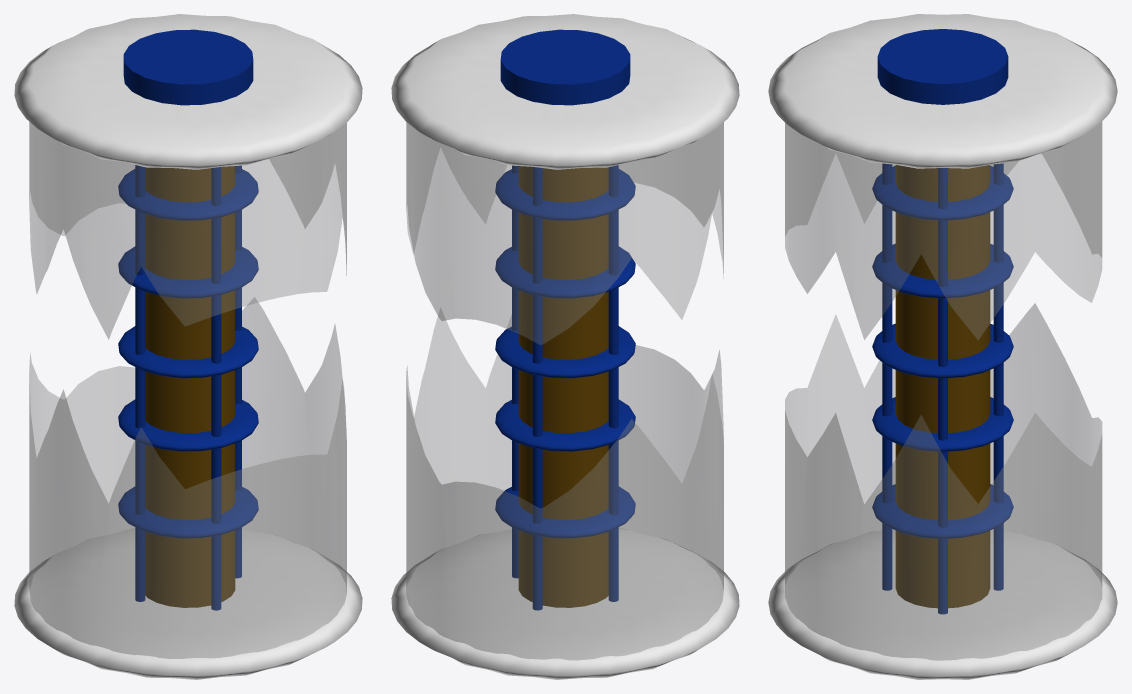
The model's file is BrokenBattery.fbx.
3 renders of one model, left to right at view 1: azimuth 30°, elevation 25°; view 2: azimuth 150°, elevation 25°; view 3: azimuth 270°, elevation 25°, orthographic.
Visible parts, largest first — view 1: polySurface17; view 2: polySurface17; view 3: polySurface17.
Part boxes in pixels (x1=…): polySurface17: x1=14, y1=14, x2=362, y2=679; polySurface17: x1=391, y1=14, x2=739, y2=679; polySurface17: x1=768, y1=14, x2=1117, y2=679.
Bounding box in the file's own units: 7.4 × 13.08 × 7.4.
